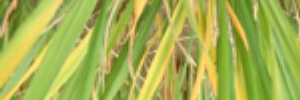RiceTungro: (141, 1, 180, 100), (4, 1, 43, 63), (198, 1, 220, 99), (225, 2, 252, 52), (60, 36, 81, 89), (132, 1, 143, 27)
